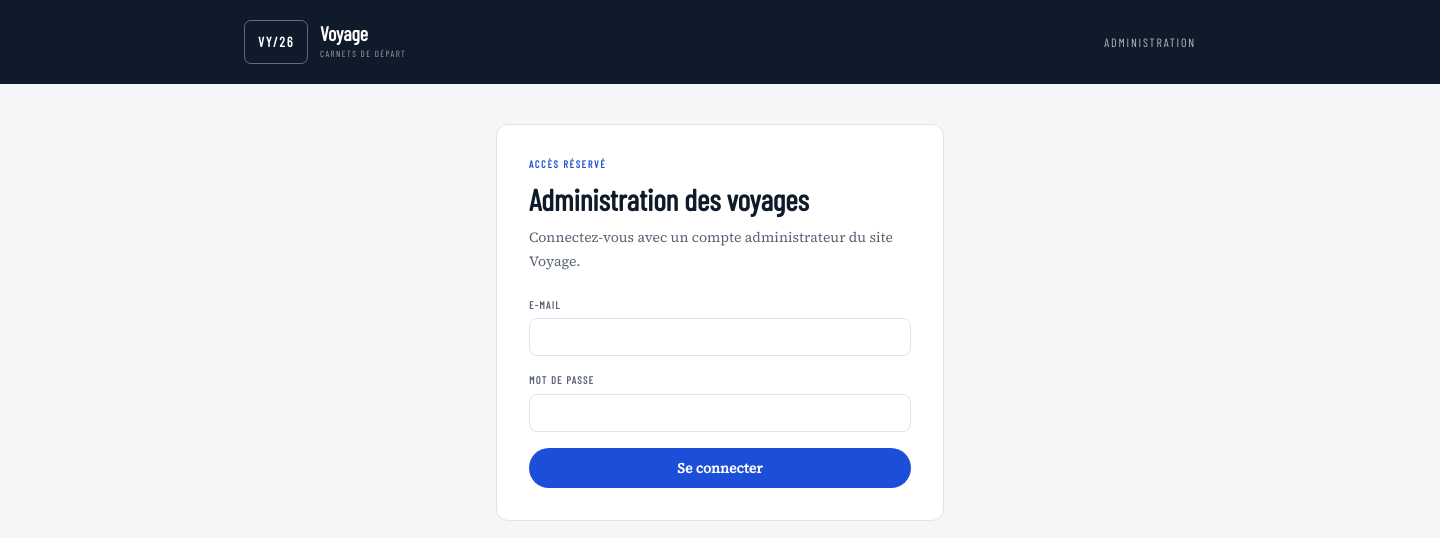
it: connexion à l'administration › connecte, stocke le jeton et l'envoie pour lister les voyages
Step 1. Type "thomas@example.fr" into the field labelled "E-mail" → coordinates (720, 338), box [529,318,911,356]
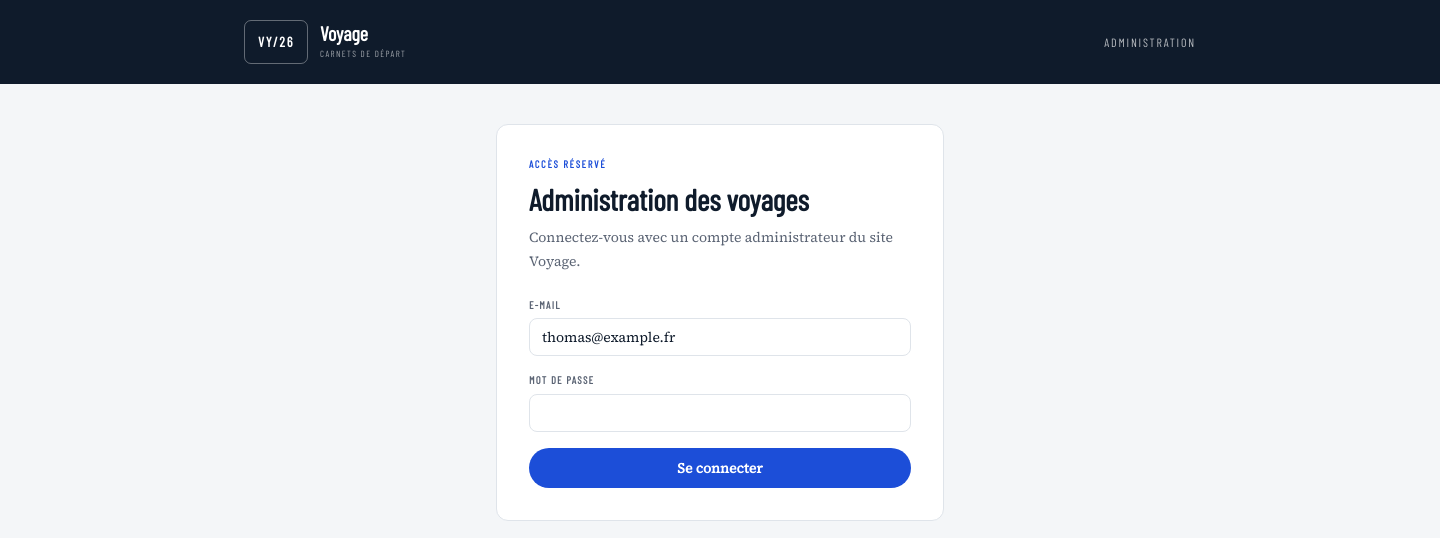
Step 2. Type "secret" into the password field labelled "Mot de passe" → coordinates (720, 413), box [529,394,911,432]
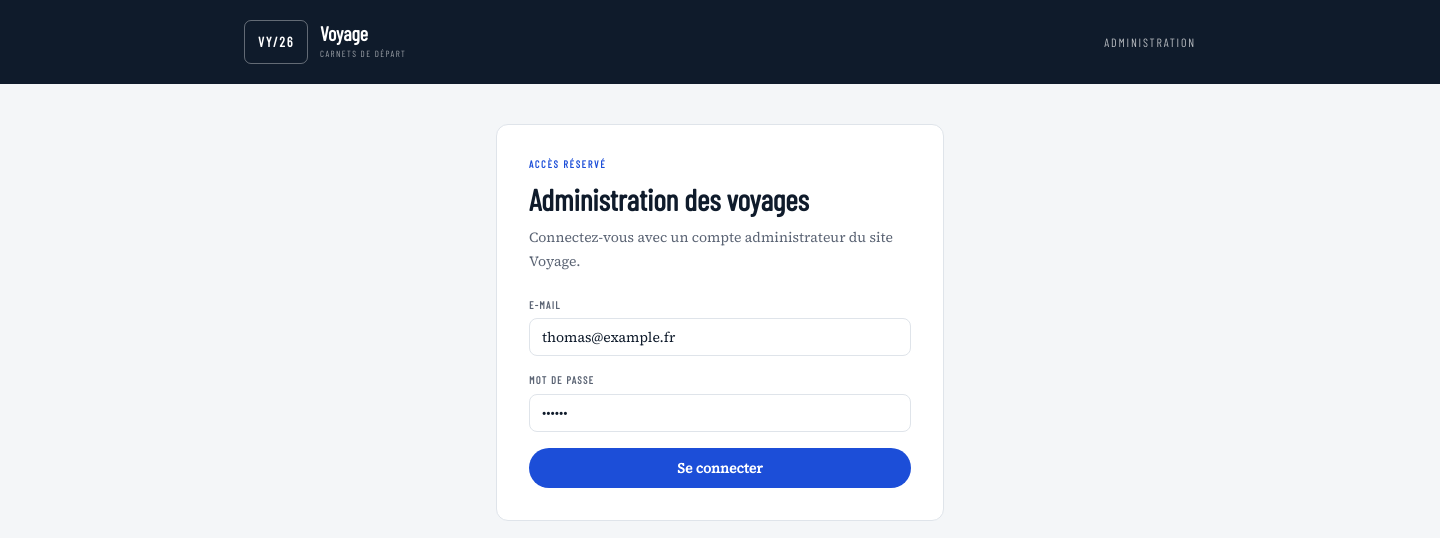
Step 3. Click the button "Se connecter" → coordinates (720, 468), box [529,448,911,488]
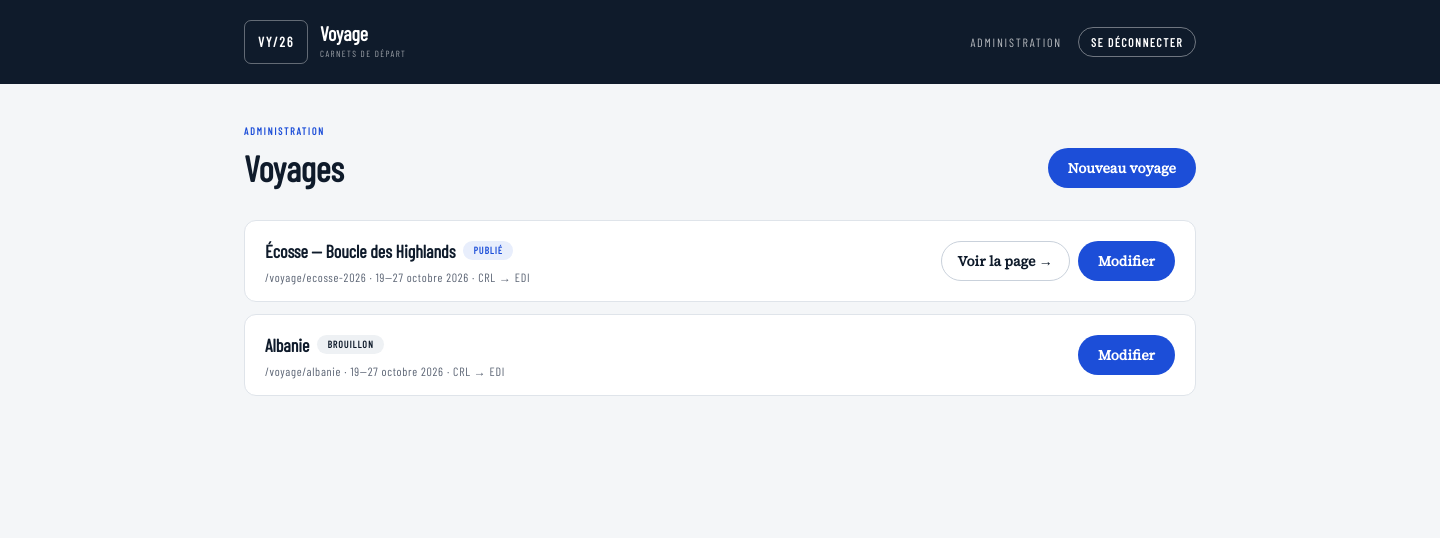
Check: the heading "Albanie" is shown, box [265,331,309,359]
Check: the number of links "Voir la page →" is 1, box [941,241,1070,281]
Check: the text "Brouillon" is shown, box [317,335,384,354]
